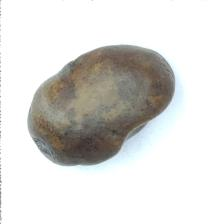NG: (27, 122, 61, 164)
